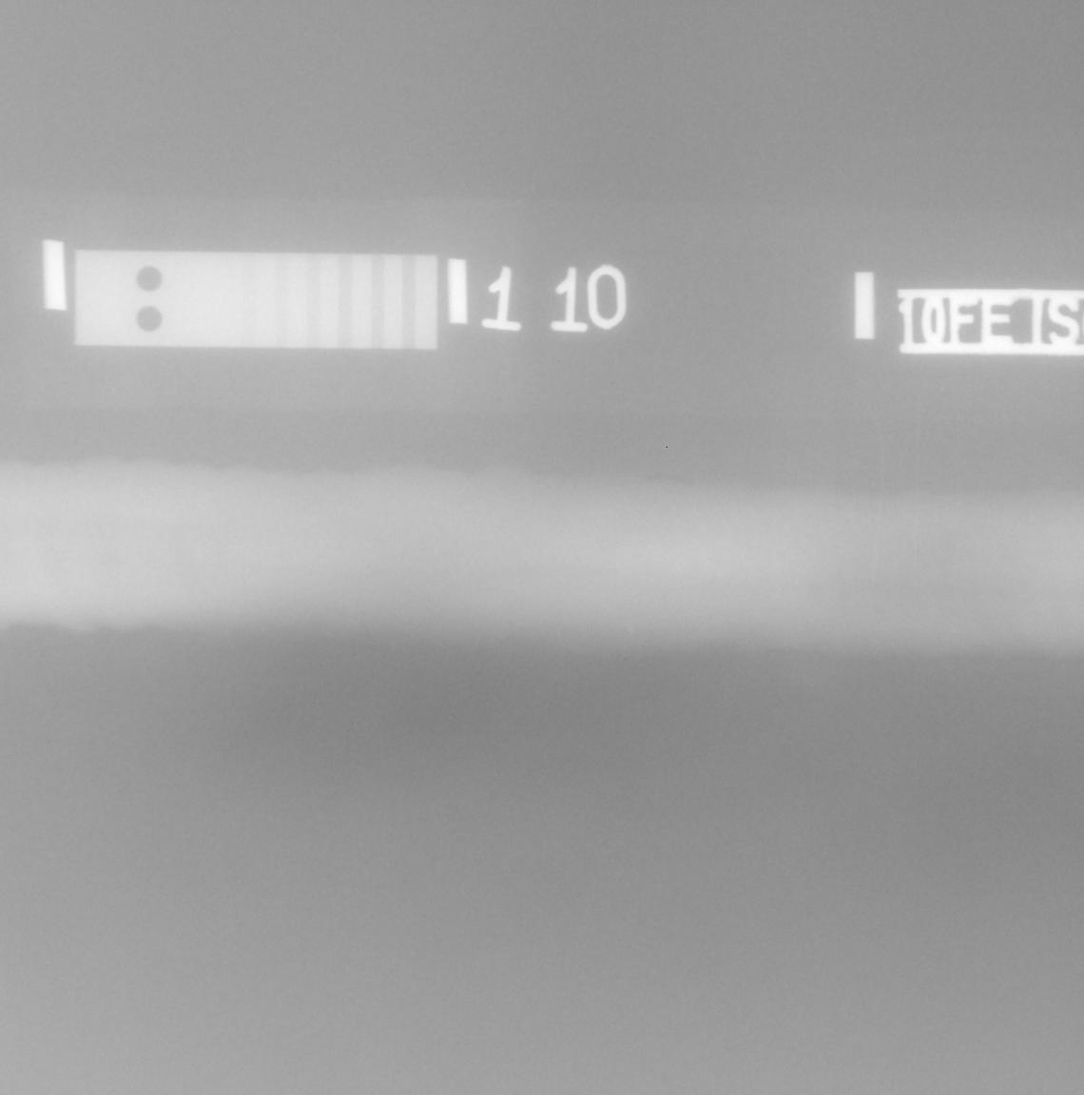Inclusion: (647, 474, 688, 483)
Reference Standard 2: (75, 249, 439, 351)
